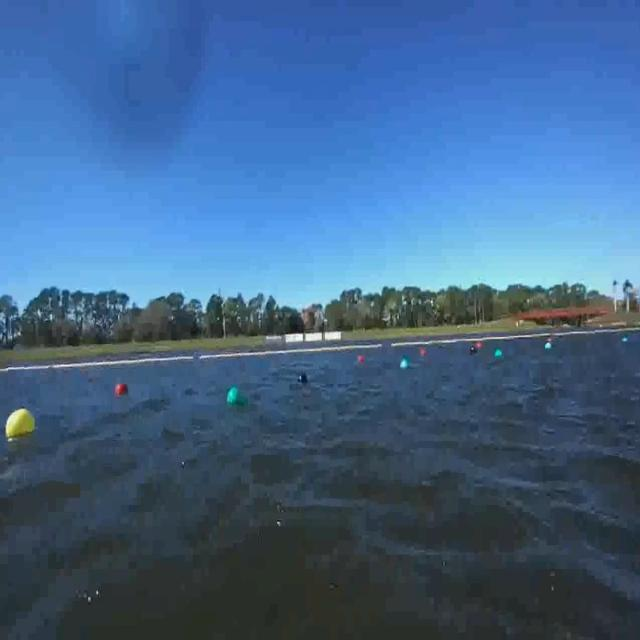green-buoy: (229, 387, 241, 403), (494, 349, 503, 360)
red-buoy: (115, 383, 127, 396), (359, 355, 364, 363)
yellow-buoy: (7, 408, 37, 438)
